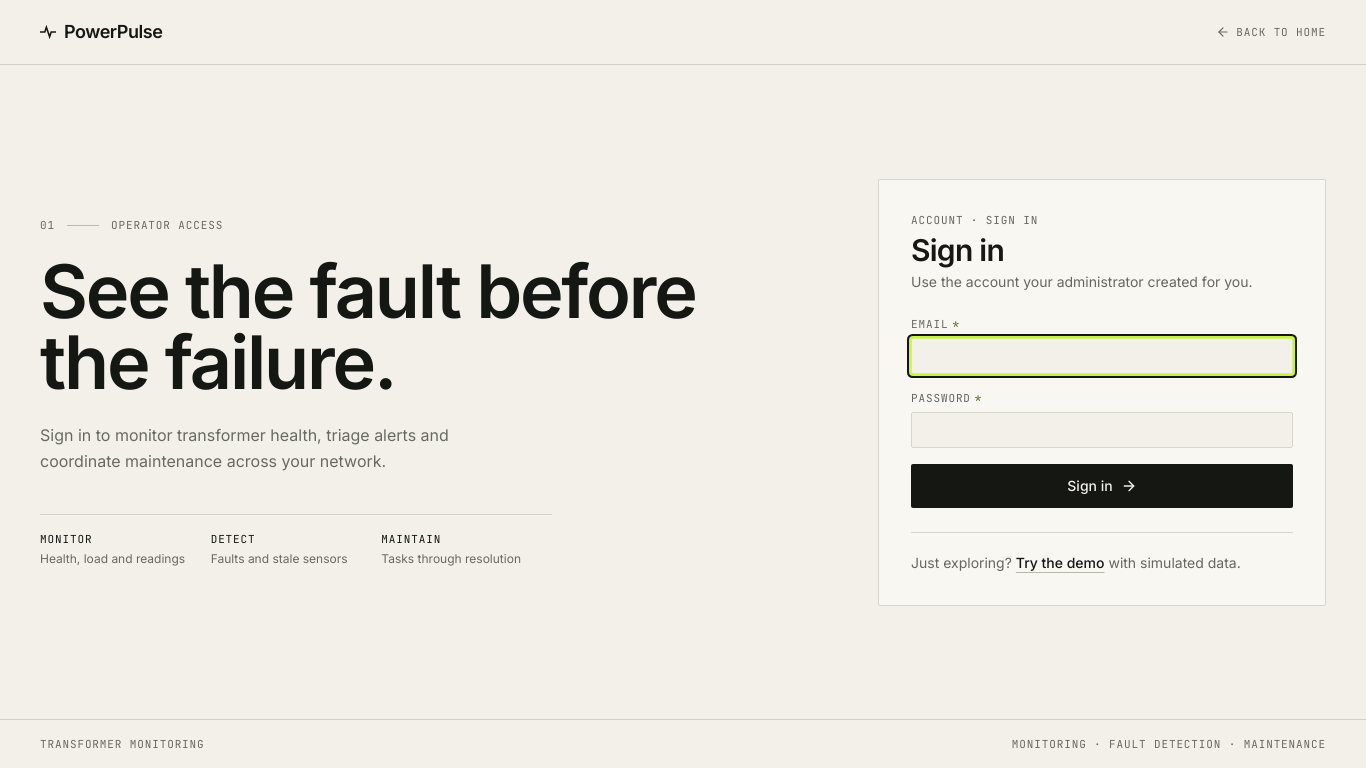
Test: LoginPage › shows the throttling message on 429
Type "ops@test.local" into the field labelled "Email*" at coordinates (1102, 356), box [911,338,1293,374]
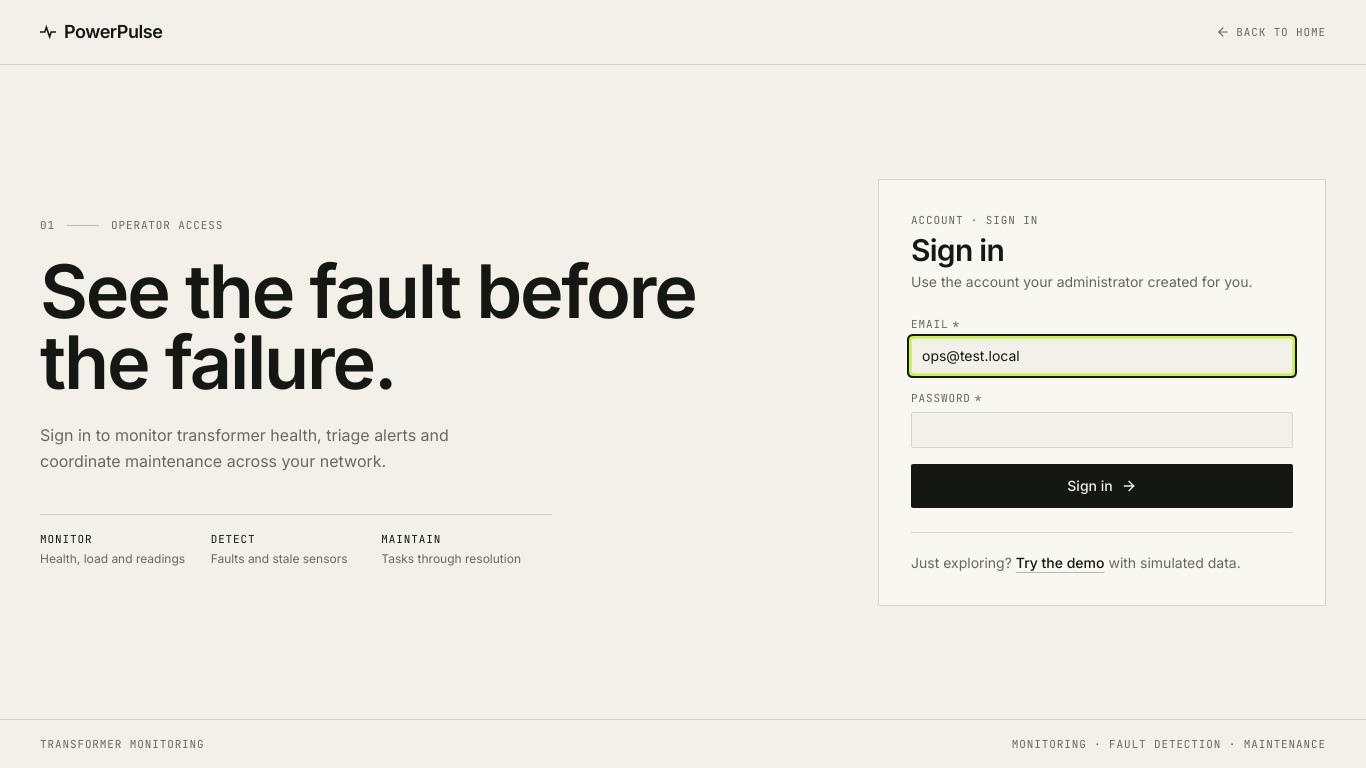
Type "pw" into the password field labelled "Password*" at coordinates (1102, 430), box [911,412,1293,448]
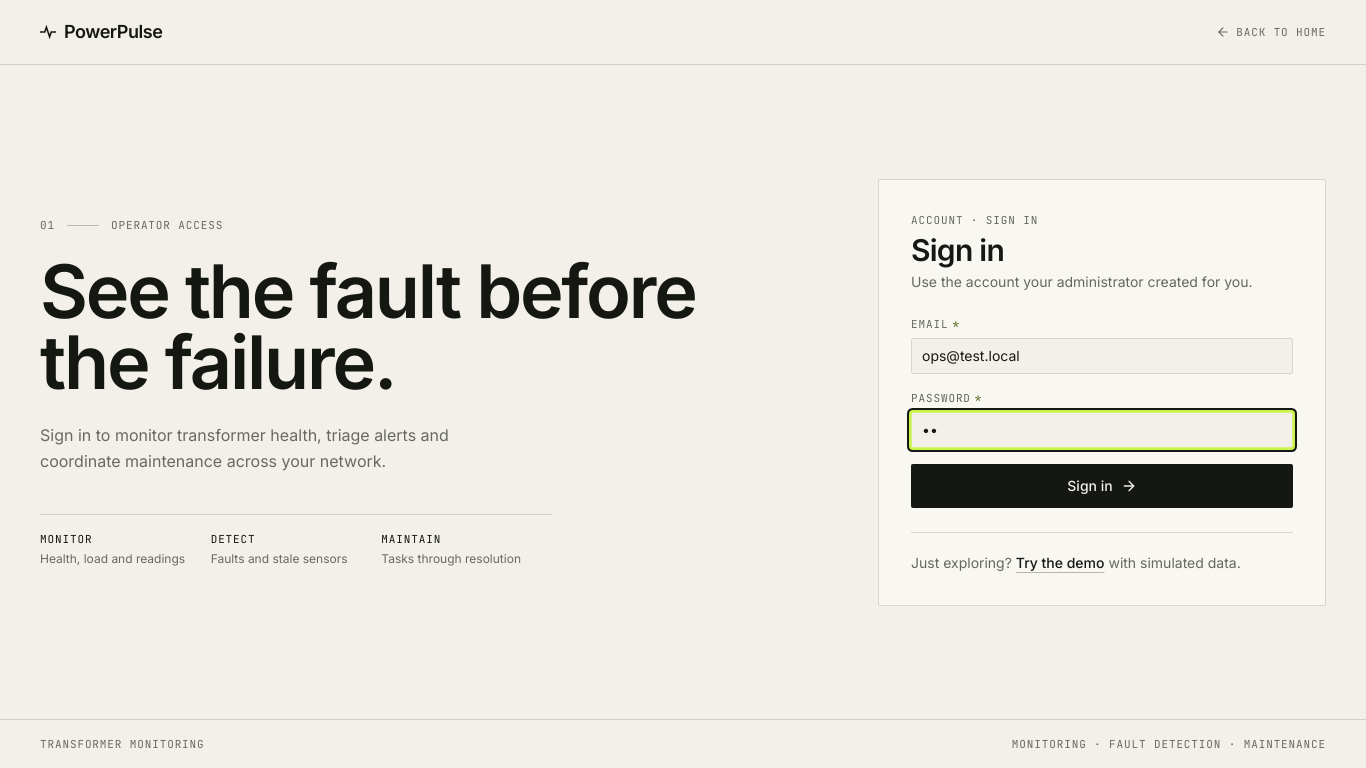
Click the button "Sign in" at coordinates (1102, 486), box [911,464,1293,508]
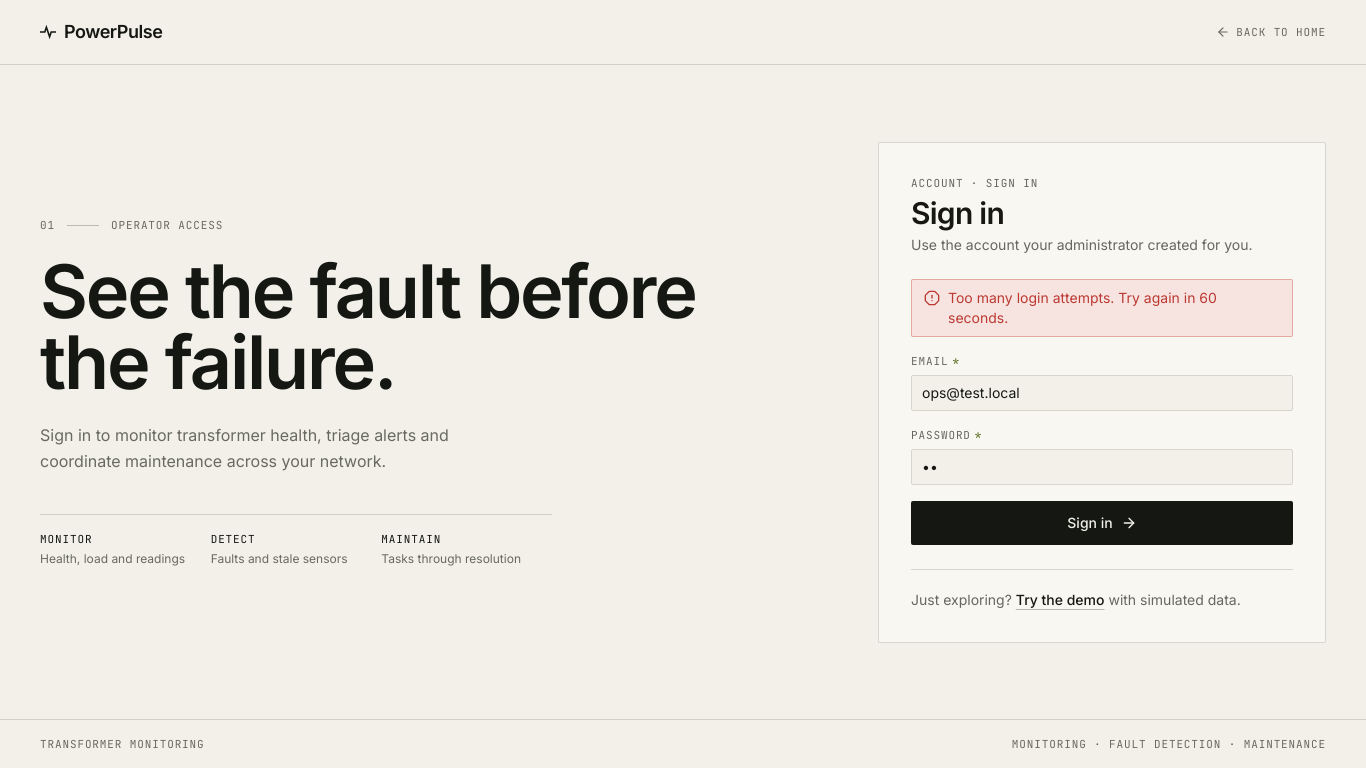
Result: the message reads "Too many login attempts. Try again in 60 seconds." at [948,288,1217,326]
